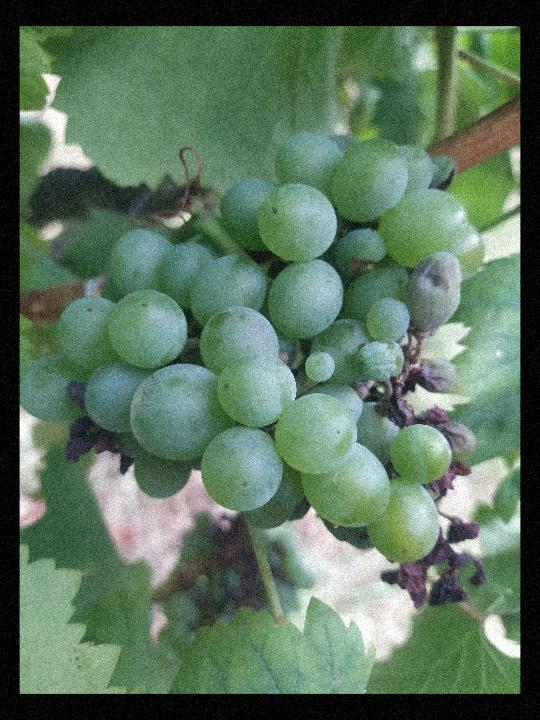grape: (20, 129, 489, 613)
